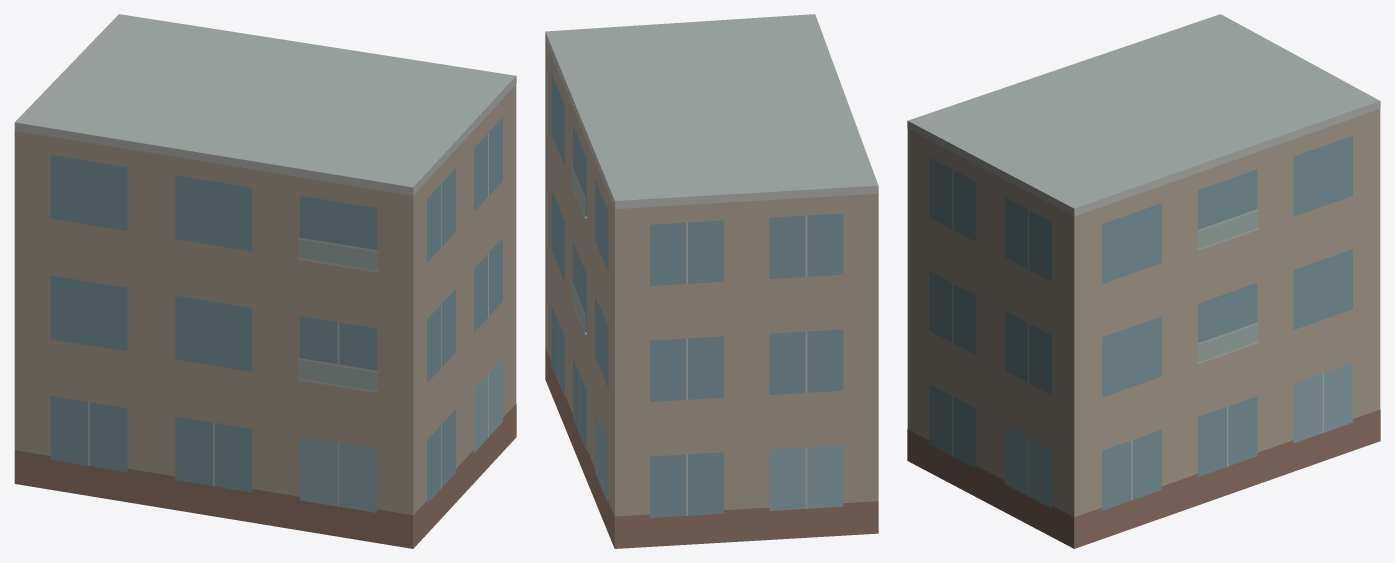
The model's file is survey-upis-32492707.glb.
The picture shows the model from 3 angles, left to right: view 1: azimuth 30°, elevation 25°; view 2: azimuth 150°, elevation 25°; view 3: azimuth 270°, elevation 25°; orthographic projection. The views are drawn at different scales.
Parts seen in each view (by area): view 1: survey-upis-32492707.tmp; view 2: survey-upis-32492707.tmp; view 3: survey-upis-32492707.tmp.
Part boxes in pixels (left/top/right/bottom): survey-upis-32492707.tmp: left=14, top=14, right=516, bottom=548; survey-upis-32492707.tmp: left=545, top=14, right=878, bottom=548; survey-upis-32492707.tmp: left=907, top=14, right=1380, bottom=548.
Size of the model in its own units: 13.02 by 10.6 by 13.36.
